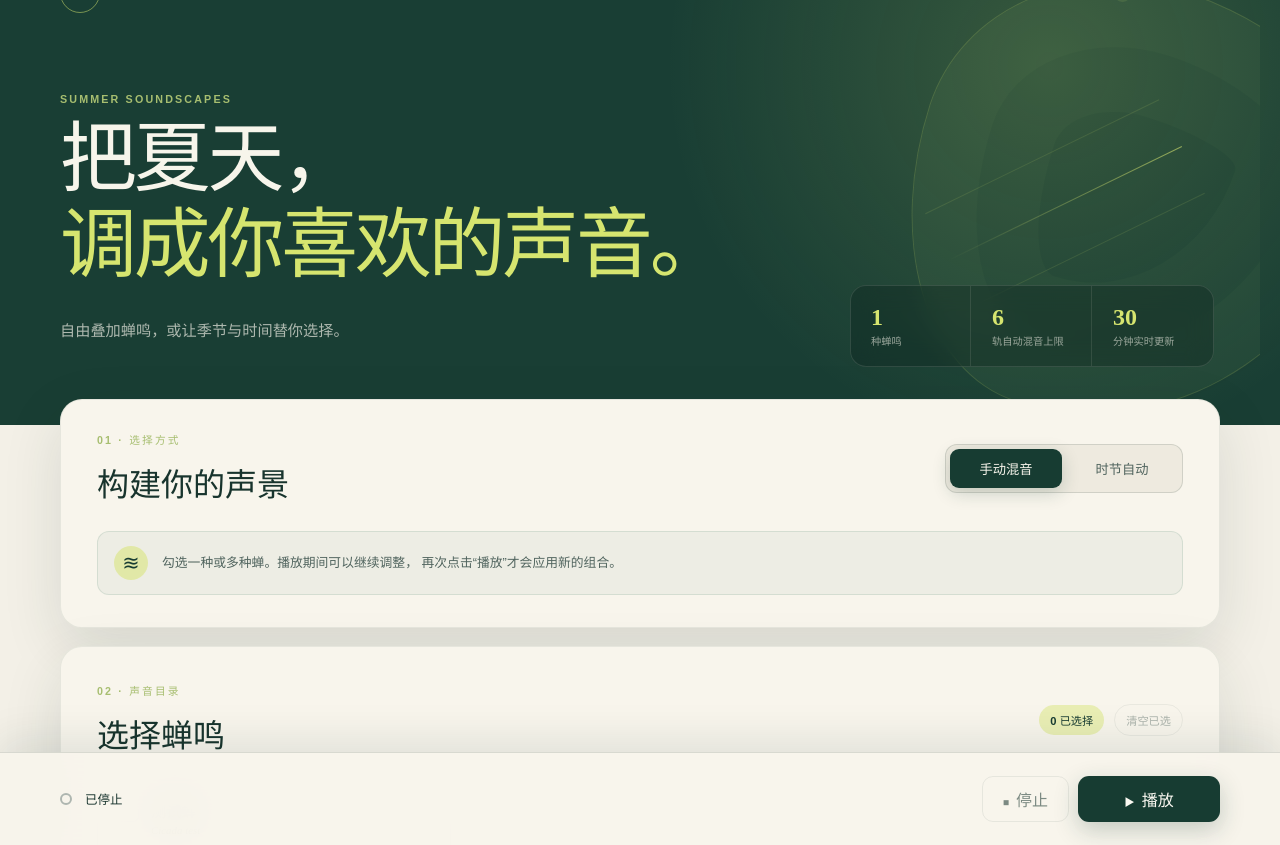
App › shows a read-only automatic preview
Expected: the heading "选择蝉鸣" is shown, [97,710,225,756]
Click the button "时节自动": (1122, 468) [1066,449,1178,488]
(page scrolled)
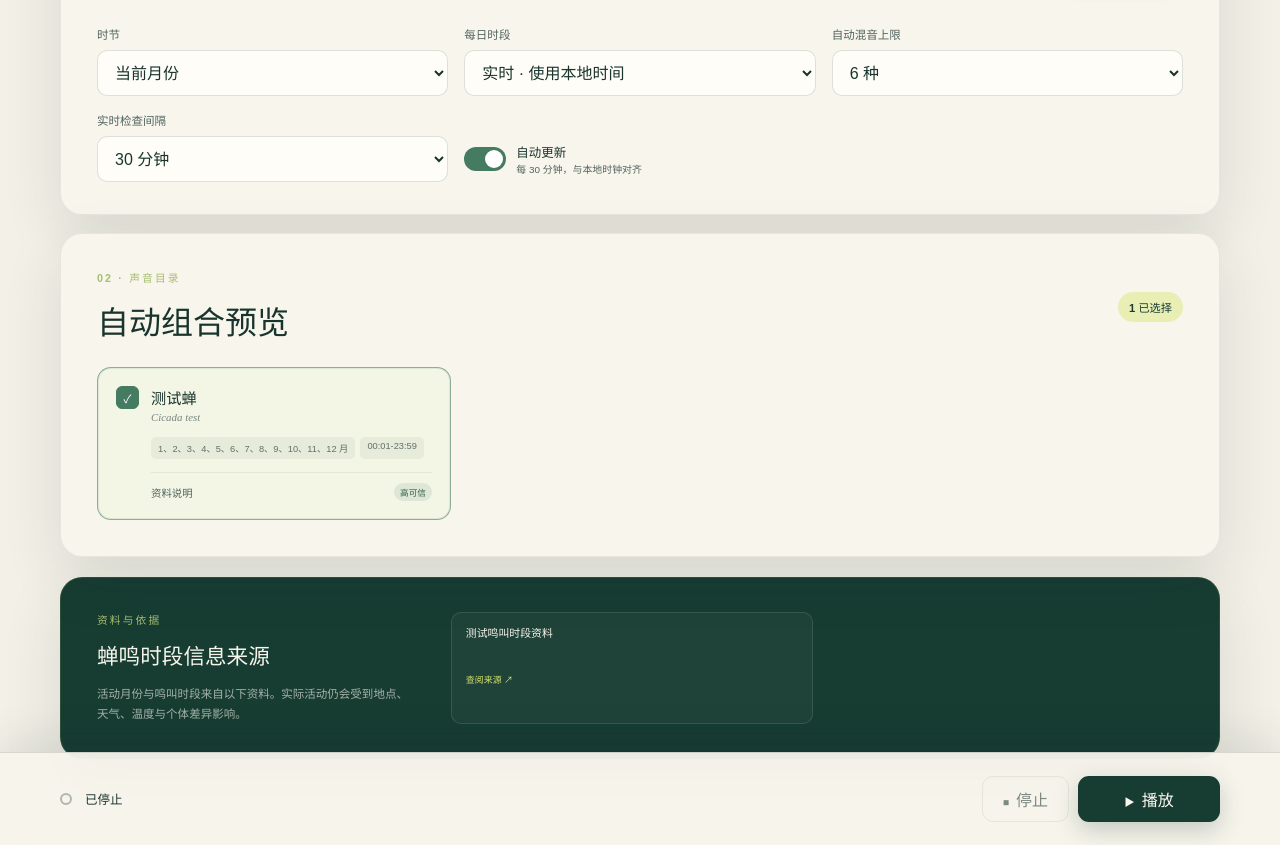
Expected: the heading "自动组合预览" is shown, [97,297,289,343]
Expected: the checkbox labelled "✓ 测试蝉 Cicada test" is disabled, [116,386,200,423]
